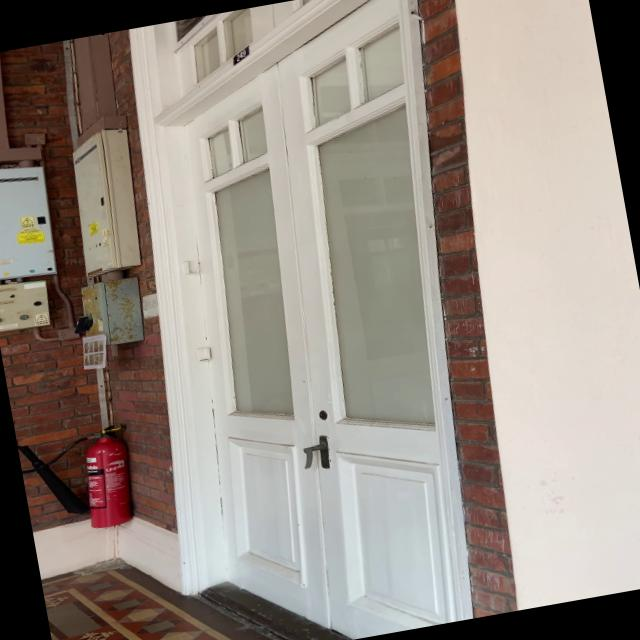room249: (224, 42, 254, 68)
